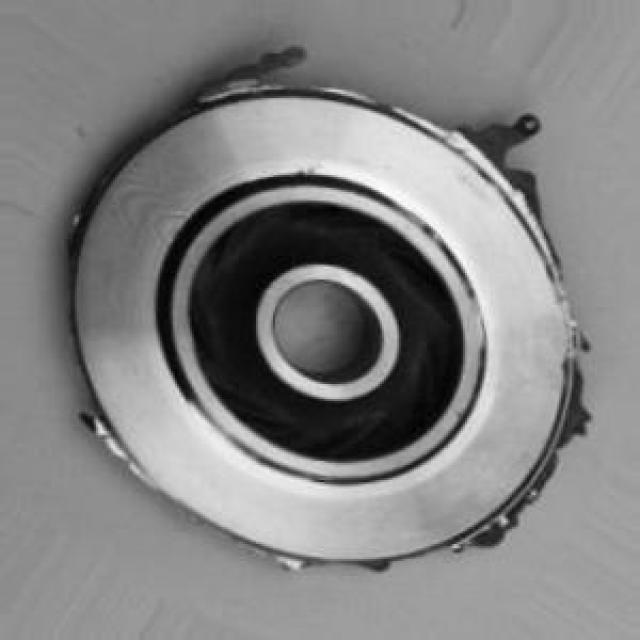Defect: (446, 99, 536, 179), (218, 66, 273, 97)
